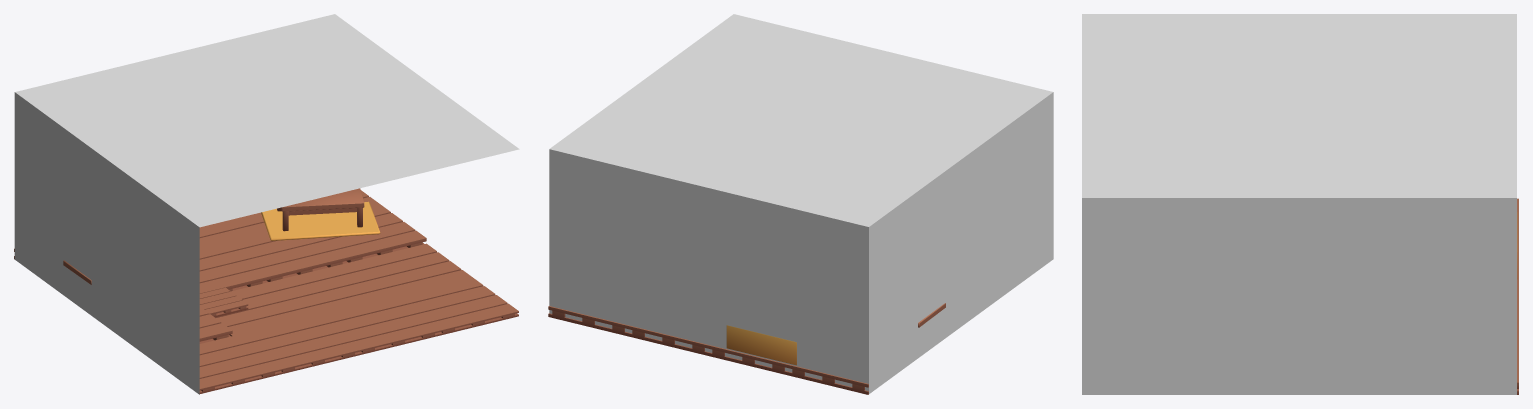
3 views of the same model, side by side, from view 1: azimuth 30°, elevation 25°; view 2: azimuth 150°, elevation 25°; view 3: azimuth 270°, elevation 25° (orthographic). The views are drawn at different scales.
Parts seen in each view (by area): view 1: Box, Pallet_Large.011, Pallet_Large.012, Pallet_Large.014, Pallet_Large.009, Pallet_Large.010, Pallet_Large.005, Pallet_Large.013, rug_rectangle_A, Pallet_Large.015, Pallet_Large.006, Pallet_Large.003 (+4 smaller); view 2: Box, couch_pillows, Pallet_Large.008, Pallet_Large.007, Pallet_Large.001, Pallet_Large.002; view 3: Box.
Boxes of the visible parts, x1=… form: Box: x1=14, y1=14, x2=519, y2=394; Pallet_Large.011: x1=393, y1=277, x2=518, y2=335; Pallet_Large.012: x1=313, y1=297, x2=438, y2=355; Pallet_Large.014: x1=233, y1=316, x2=358, y2=374; Pallet_Large.009: x1=267, y1=263, x2=392, y2=316; Pallet_Large.010: x1=347, y1=243, x2=472, y2=296; Pallet_Large.005: x1=221, y1=232, x2=346, y2=282; Pallet_Large.013: x1=199, y1=336, x2=278, y2=393; rug_rectangle_A: x1=261, y1=201, x2=380, y2=240; Pallet_Large.015: x1=215, y1=282, x2=312, y2=336; Pallet_Large.006: x1=320, y1=204, x2=426, y2=263; Pallet_Large.003: x1=199, y1=243, x2=266, y2=293; Box: x1=549, y1=14, x2=1053, y2=393; couch_pillows: x1=726, y1=325, x2=796, y2=365; Pallet_Large.008: x1=628, y1=325, x2=708, y2=355; Pallet_Large.007: x1=548, y1=306, x2=628, y2=336; Pallet_Large.001: x1=788, y1=364, x2=868, y2=394; Pallet_Large.002: x1=708, y1=345, x2=788, y2=375; Box: x1=1082, y1=14, x2=1516, y2=394.
Bounding box in the file's own units: 201 × 100 × 201.
Materials: 29 (29 with a texture image).
